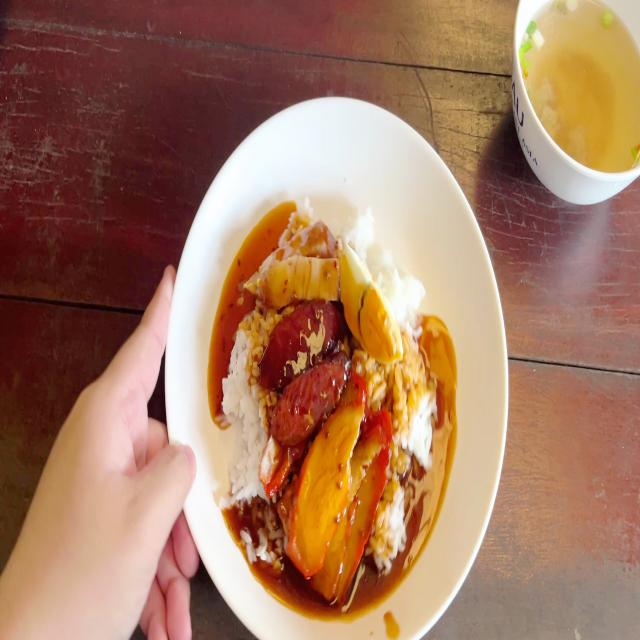boiled_egg: (340, 245, 398, 361)
chainese_sausage: (263, 307, 339, 411)
crispy_pork: (242, 226, 342, 294)
red_pork: (297, 382, 393, 582)
red_pork_and_crispy_pork: (221, 198, 435, 595)
rice: (228, 312, 260, 524), (393, 369, 437, 453), (375, 493, 412, 563), (389, 270, 419, 322)
